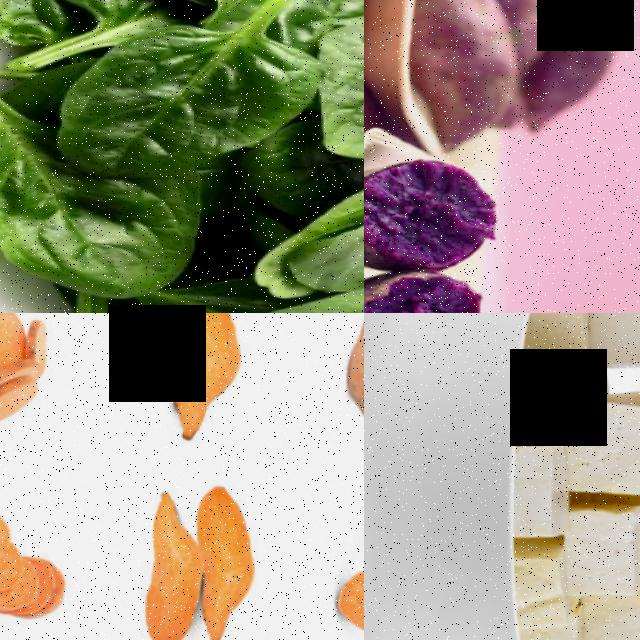spinach: (49, 16, 321, 188), (0, 171, 212, 306), (286, 182, 364, 304)
sweet potato: (364, 152, 502, 276), (410, 0, 524, 148), (535, 0, 634, 141), (163, 313, 248, 443), (193, 486, 260, 640), (134, 491, 203, 640), (364, 267, 488, 313), (336, 313, 364, 464), (330, 566, 364, 640)
tofu: (557, 394, 639, 501), (557, 505, 637, 601), (506, 445, 566, 543), (510, 542, 569, 632), (523, 313, 593, 359), (587, 313, 640, 364), (576, 614, 640, 640)
